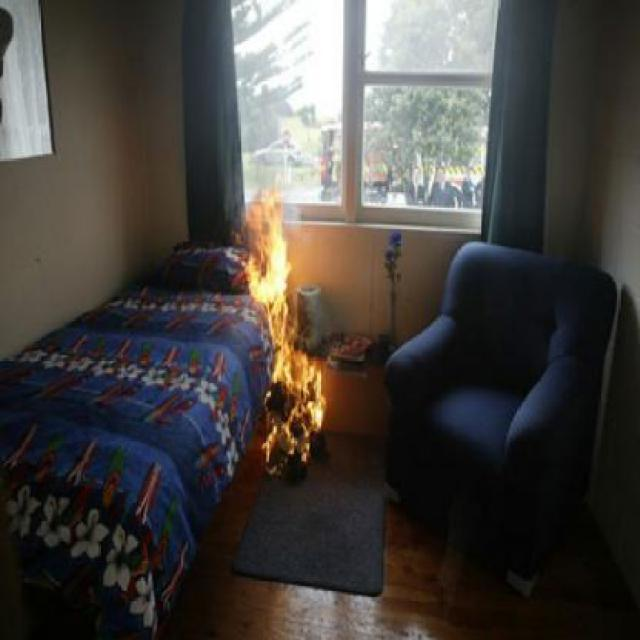fire: (229, 199, 349, 481)
